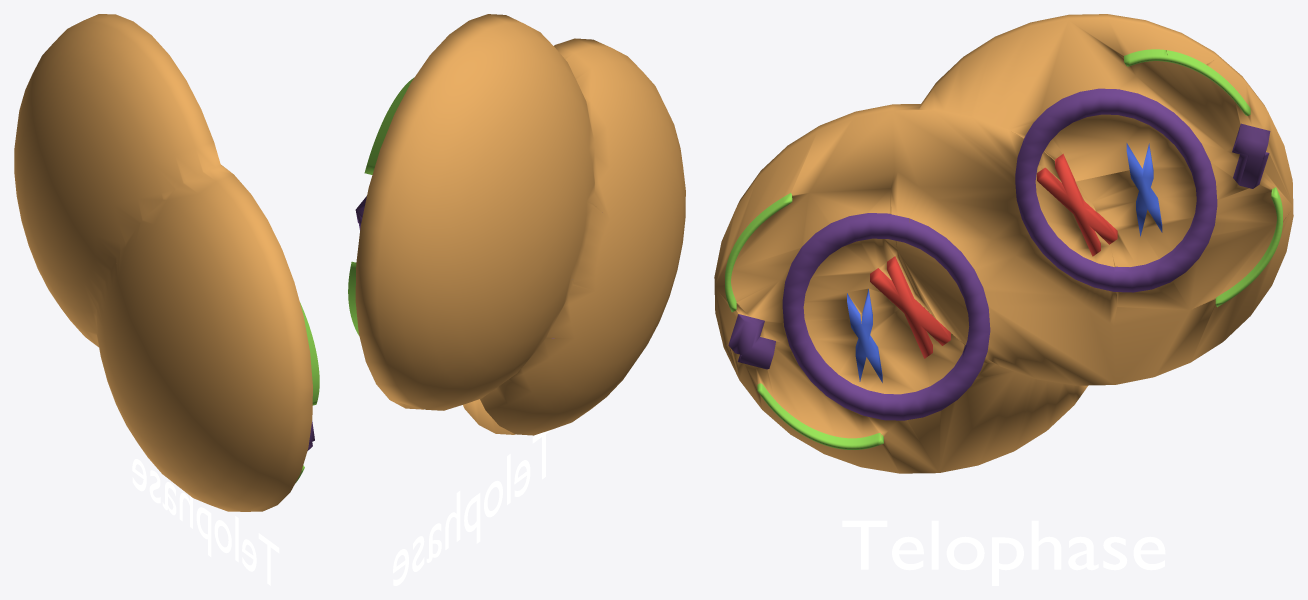
The model's file is Telophase_1.glb.
3 views of the same model, side by side, from view 1: azimuth 30°, elevation 25°; view 2: azimuth 150°, elevation 25°; view 3: azimuth 270°, elevation 25° (orthographic). The views are drawn at different scales.
Visible parts, largest first — view 1: obj_0.007, Text.001; view 2: obj_0.007, Text.001; view 3: obj_0.007, Text.001.
Part boxes in pixels (<box>): obj_0.007: <box>14,14,319,511</box>; Text.001: <box>132,459,279,585</box>; obj_0.007: <box>348,14,685,435</box>; Text.001: <box>393,430,550,585</box>; obj_0.007: <box>714,14,1293,473</box>; Text.001: <box>842,520,1165,585</box>.
Size of the model in its own units: 1.82 by 7.74 by 7.34.
